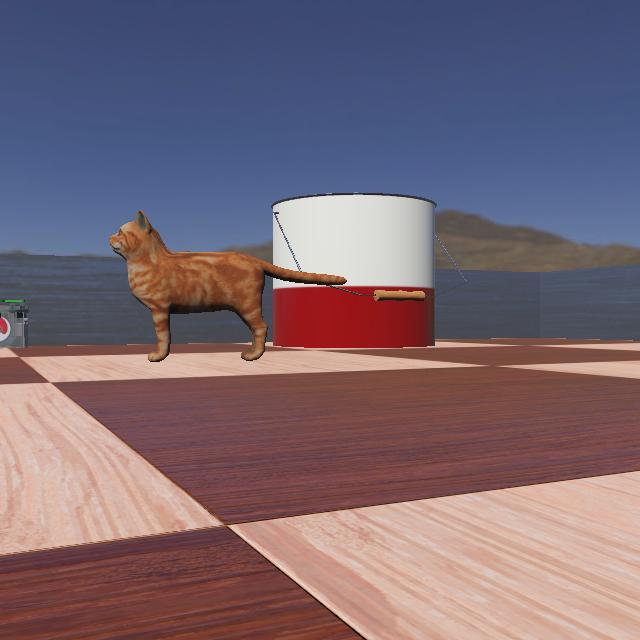cat: (100, 206, 350, 362), (100, 206, 350, 362)
paint-bucket: (262, 188, 484, 350)
